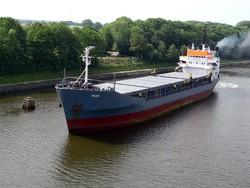Cargoship: (48, 23, 225, 133)
